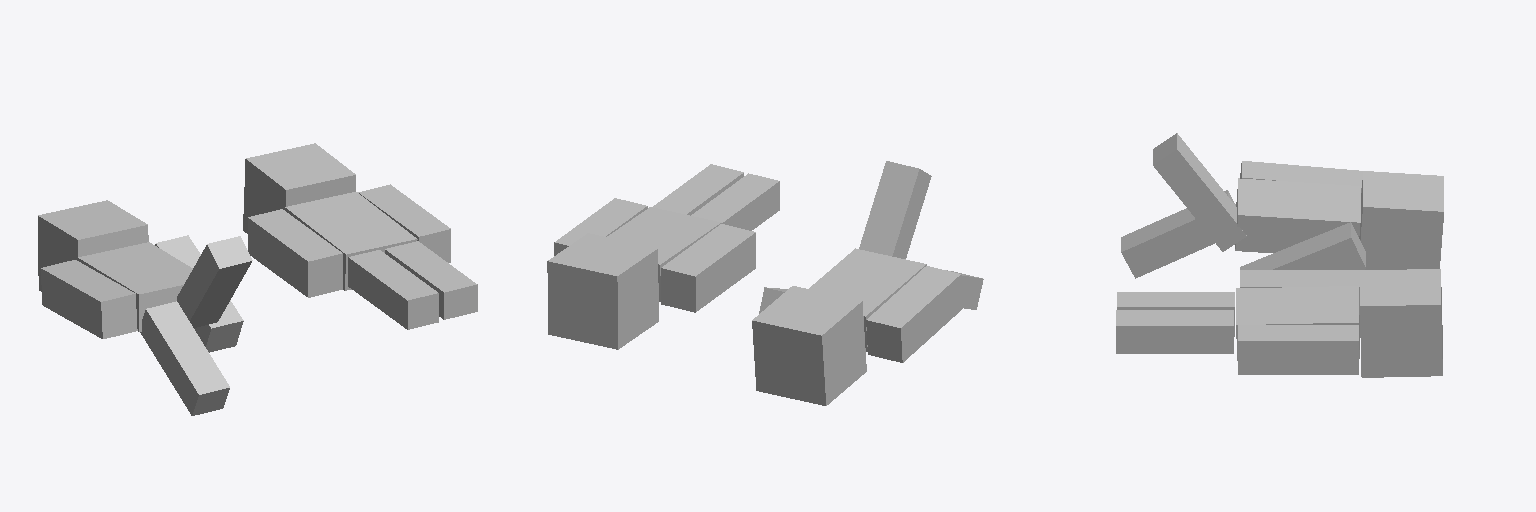
File: steve_000037.obj
3 views of the same model, side by side, from view 1: azimuth 30°, elevation 25°; view 2: azimuth 150°, elevation 25°; view 3: azimuth 270°, elevation 25° (orthographic).
Visible parts, largest first — view 1: Cube.001_Cube.002, Cube_Cube.001; view 2: Cube.001_Cube.002, Cube_Cube.001; view 3: Cube.001_Cube.002, Cube_Cube.001.
Part boxes in pixels (left/top/right/bottom): Cube.001_Cube.002: left=243, top=143, right=477, bottom=329; Cube_Cube.001: left=38, top=200, right=252, bottom=415; Cube.001_Cube.002: left=547, top=164, right=779, bottom=349; Cube_Cube.001: left=752, top=161, right=983, bottom=405; Cube.001_Cube.002: left=1116, top=269, right=1442, bottom=377; Cube_Cube.001: left=1121, top=133, right=1443, bottom=278.
Size of the model in its own units: 6.55 by 2.67 by 5.36.